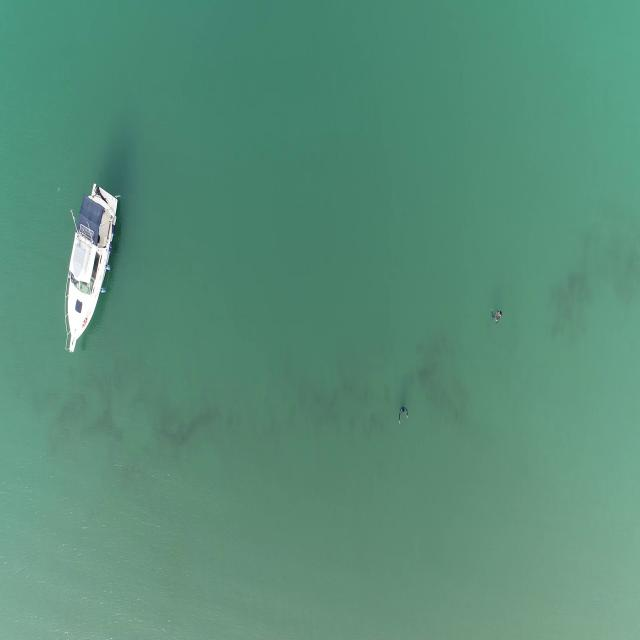boat: (60, 181, 121, 356)
person: (396, 405, 410, 427), (491, 304, 502, 328)
